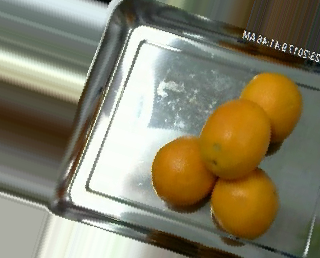Orange: (199, 99, 271, 179), (209, 166, 278, 237), (151, 135, 217, 206), (239, 73, 303, 144)
